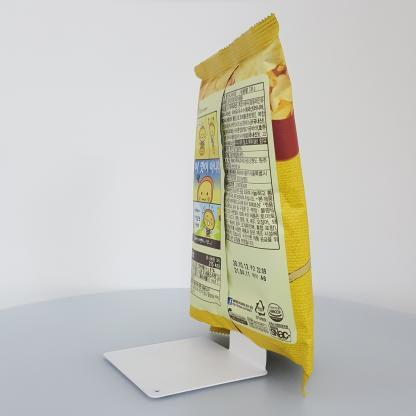Plastic Packaging: (180, 6, 328, 402)
